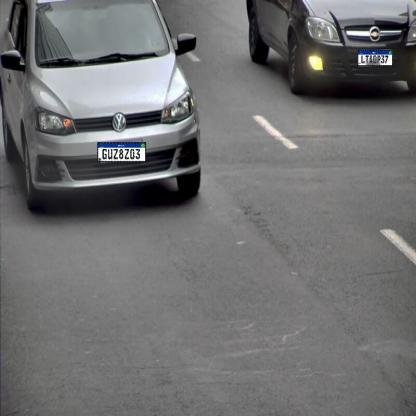PlacaM: (97, 142, 146, 162), (358, 50, 392, 66)
